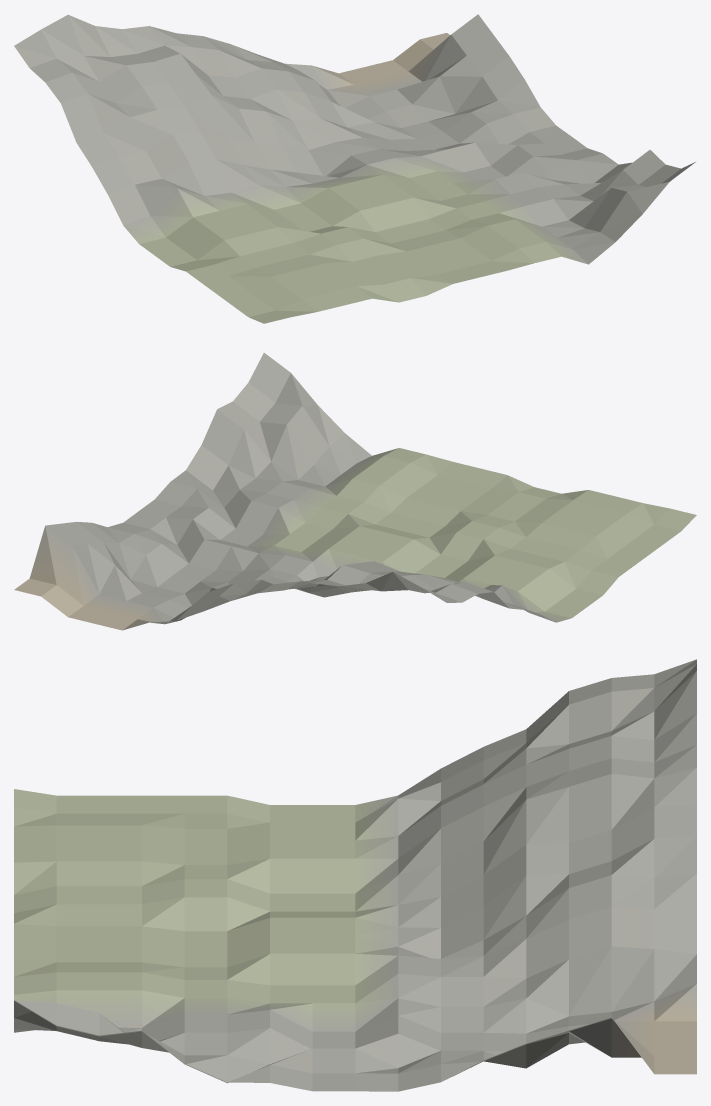
The picture shows the model from 3 angles, top to bottom: view 1: azimuth 30°, elevation 25°; view 2: azimuth 150°, elevation 25°; view 3: azimuth 270°, elevation 25°; orthographic projection. The views are drawn at different scales.
Size of the model in its own units: 32 by 9.48 by 32.
